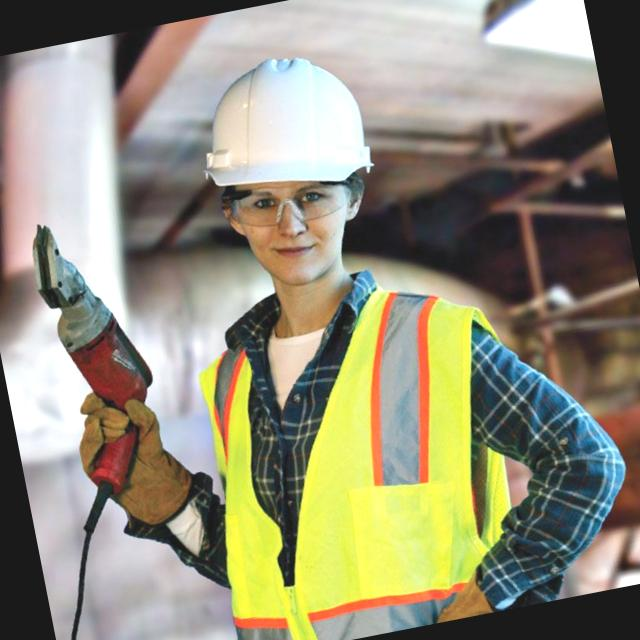helmet: (182, 42, 390, 224)
vest: (173, 266, 544, 640)
